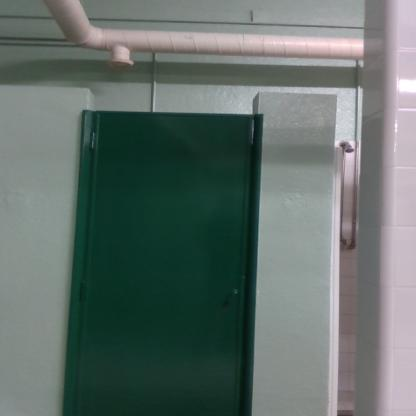door: (75, 112, 246, 416)
hinged: (78, 280, 86, 302), (90, 132, 94, 151)
